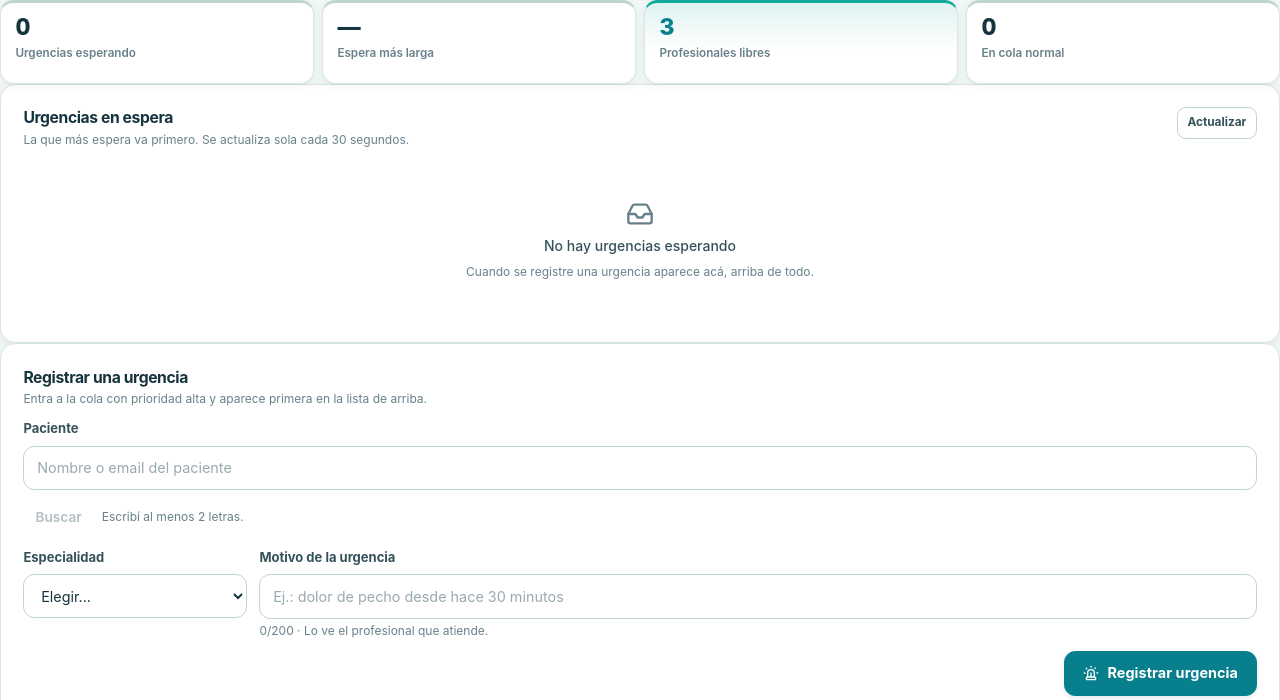
Test case: SeccionUrgencias — registrar una urgencia › flujo completo: busca paciente, completa y registra
The width and height of the screenshot is (1280, 700).
Step 1. Type "julia" into the field with placeholder "Nombre o email del paciente" → (640, 468), box [23, 446, 1257, 490]
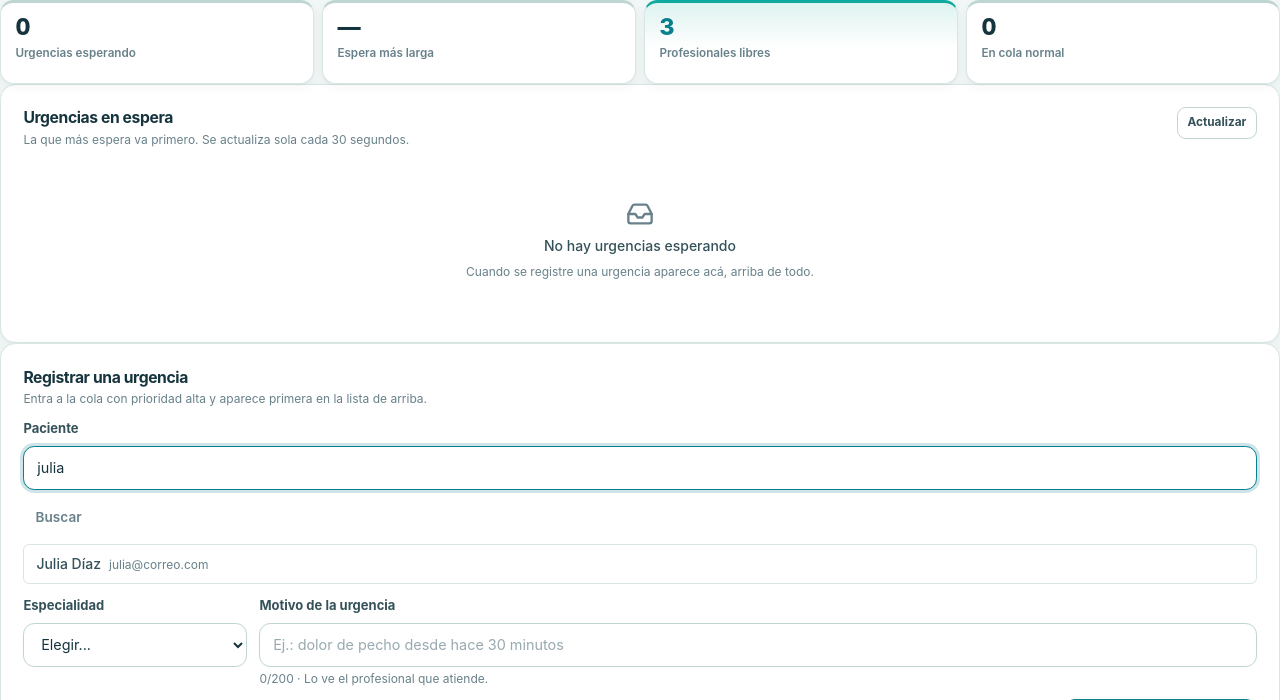
Step 2. Click the button "Julia Díaz" → (69, 563), box [23, 544, 1257, 584]
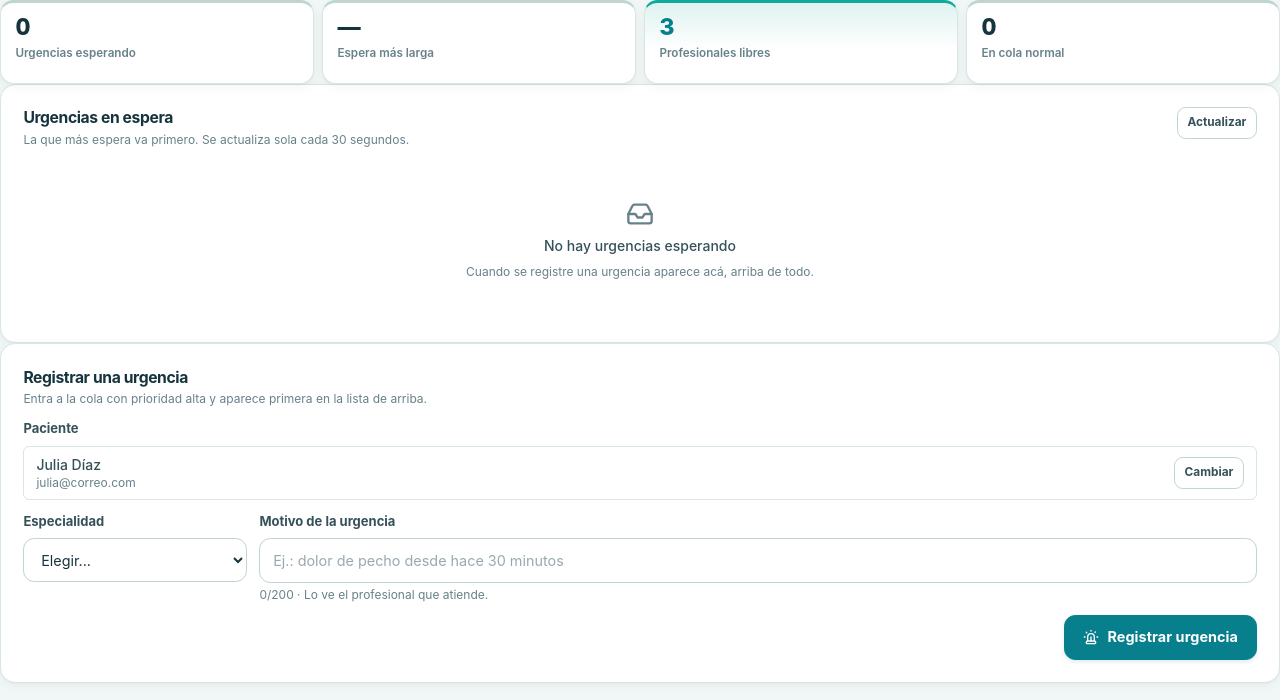
Step 3. Select "Clínica médica" in the dropdown labelled "Especialidad" → (135, 560), box [23, 538, 247, 582]
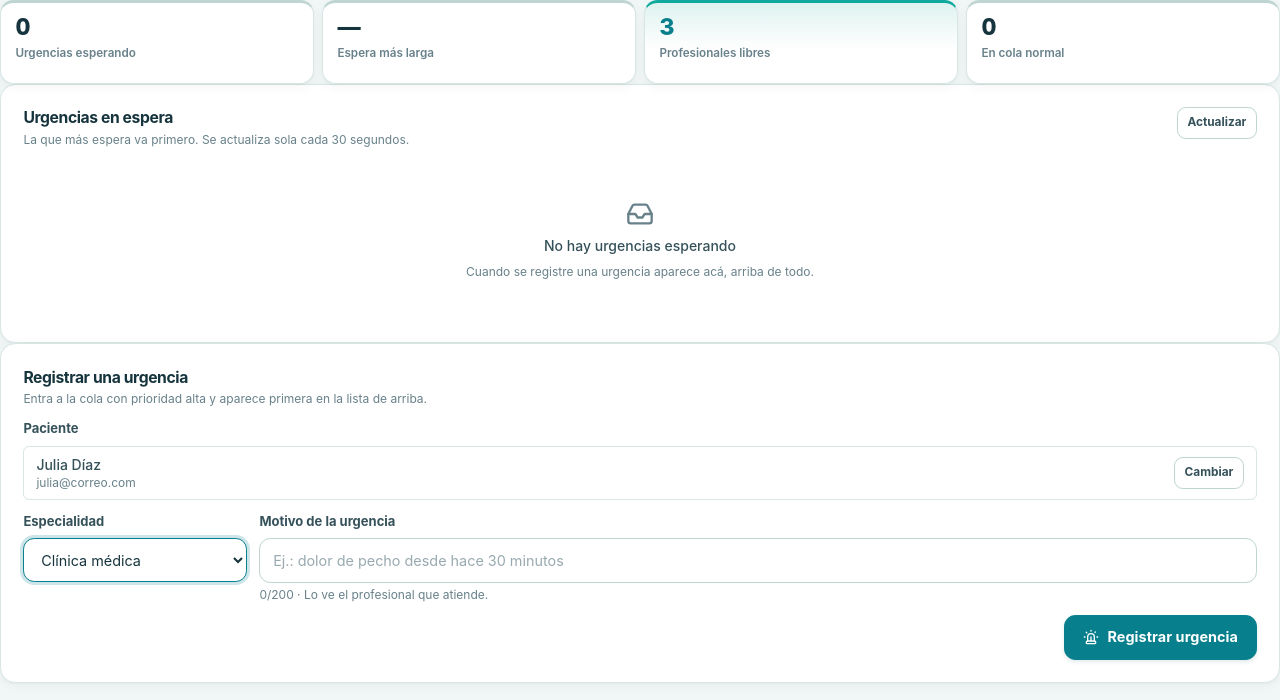
Step 4. Type "  dolor de pecho intenso  " into the field labelled "Motivo de la urgencia" → (758, 561), box [259, 538, 1257, 583]
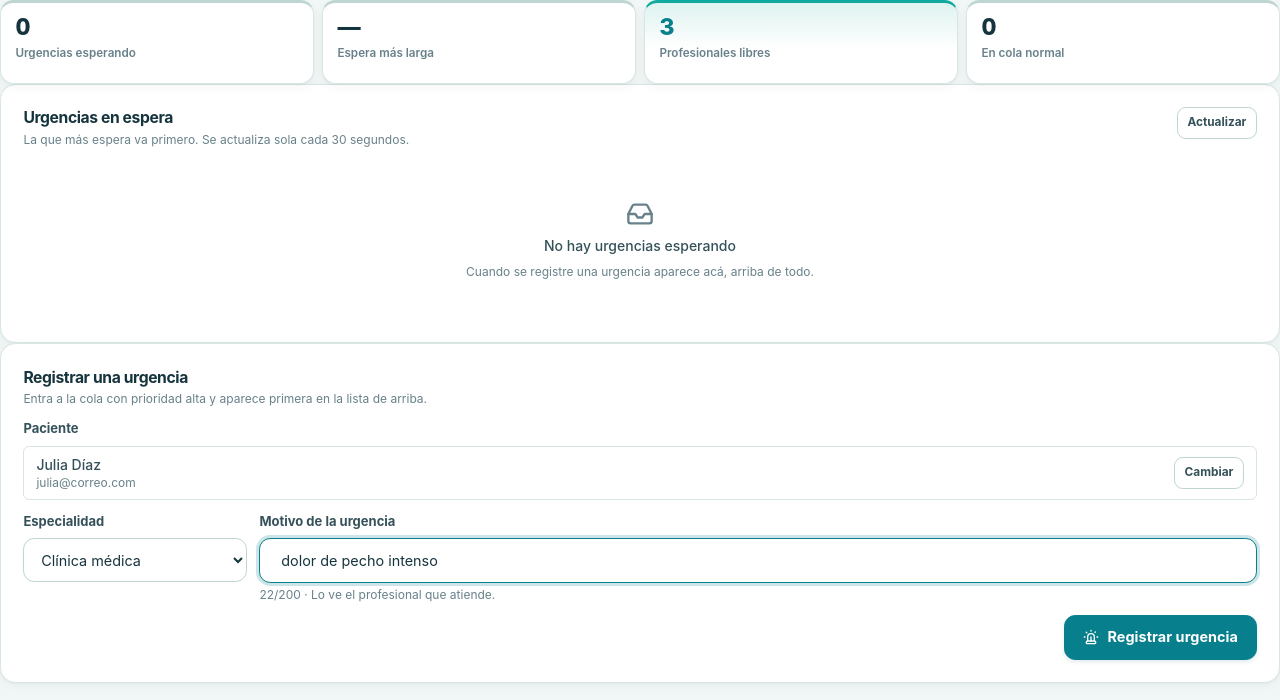
Step 5. Click the button "Registrar urgencia" → (1160, 637), box [1064, 615, 1257, 660]
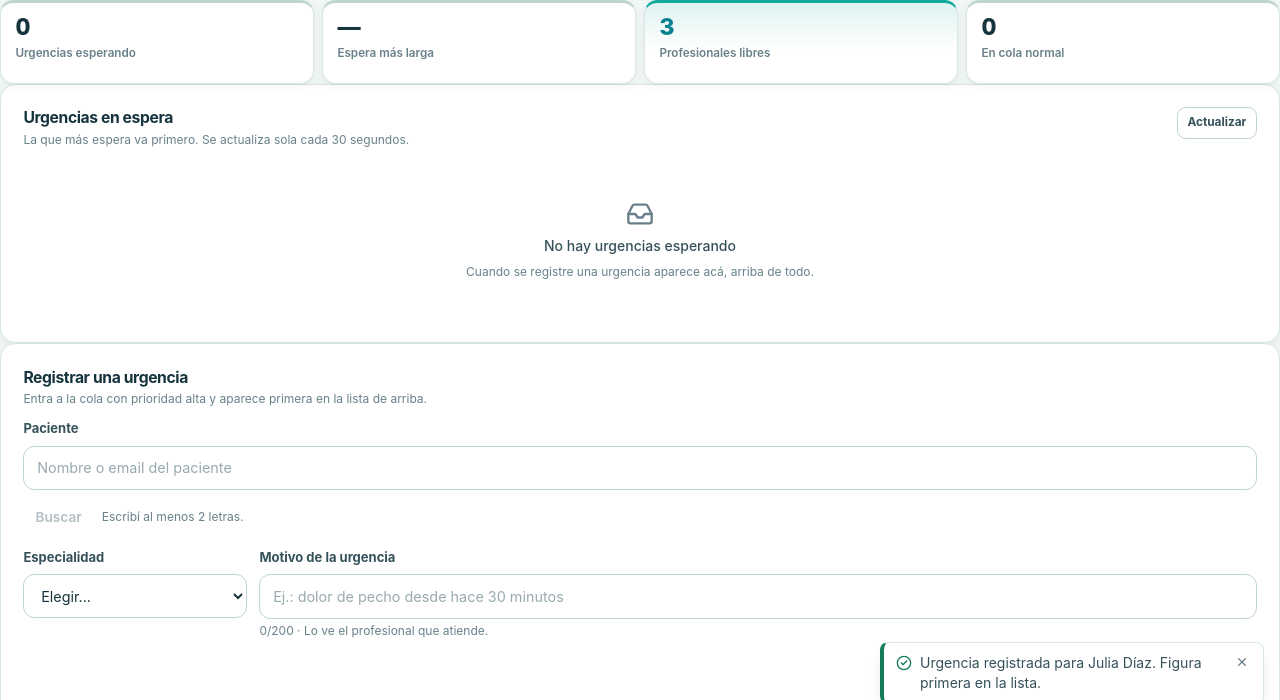
Check: the text "Urgencia registrada para Julia Díaz" is shown, box [920, 654, 1202, 691]
